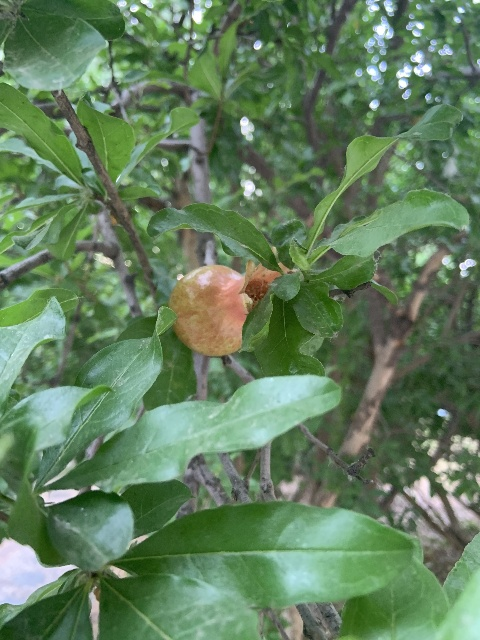early-fruit: (167, 258, 280, 356)
